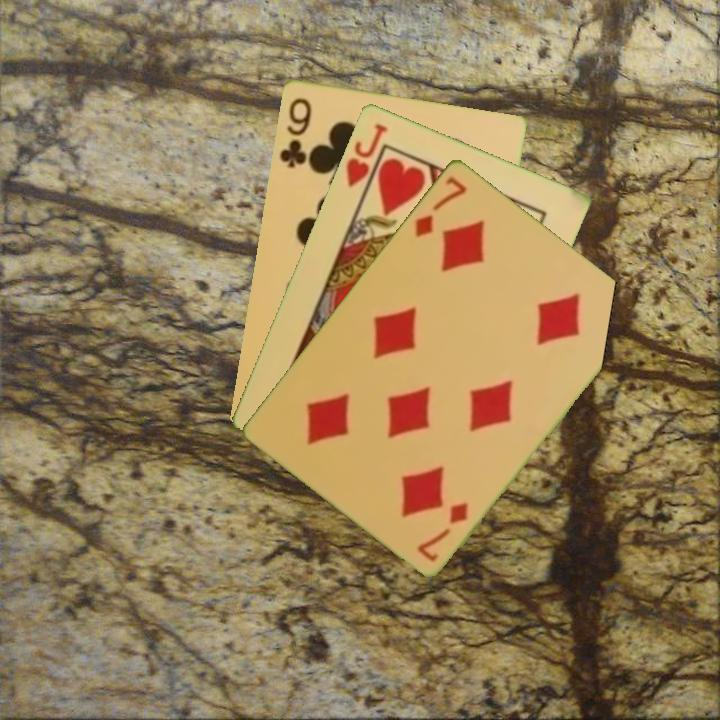7d: (411, 172, 470, 240), (413, 497, 471, 564)
9c: (275, 94, 314, 171)
Jh: (342, 119, 390, 200)
